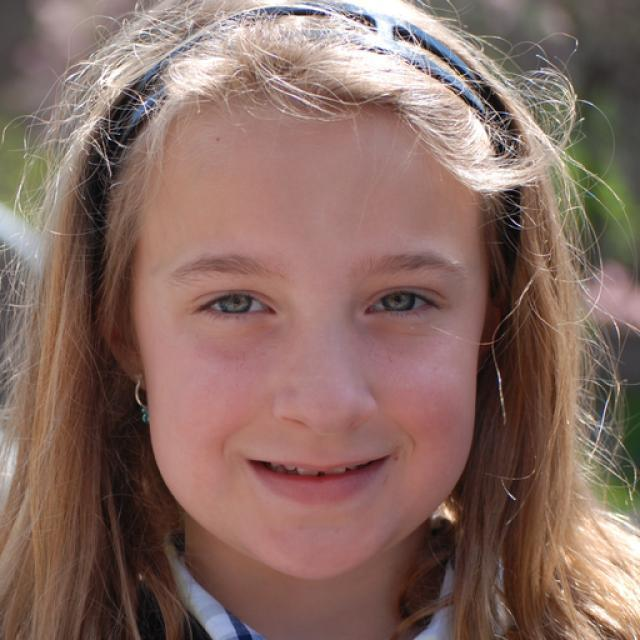happy: (136, 93, 485, 582)
